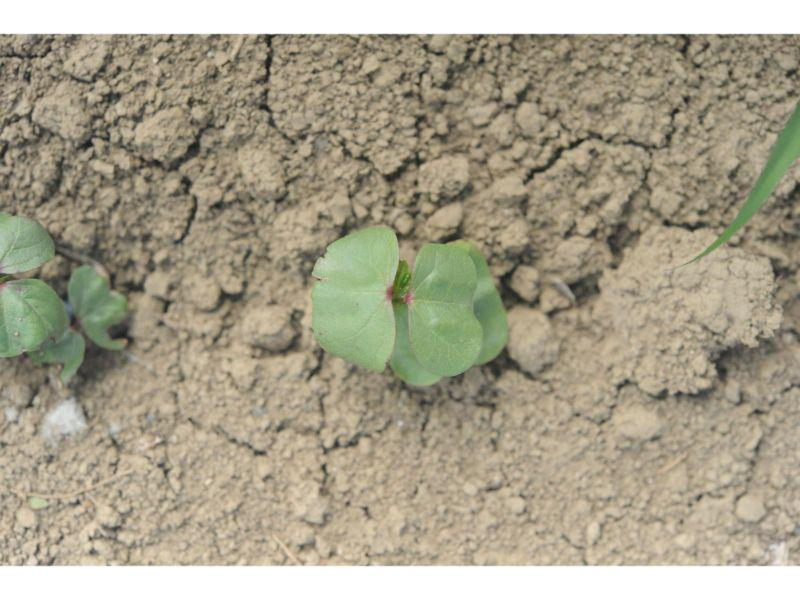cotton: (310, 224, 511, 389), (2, 214, 130, 381)
